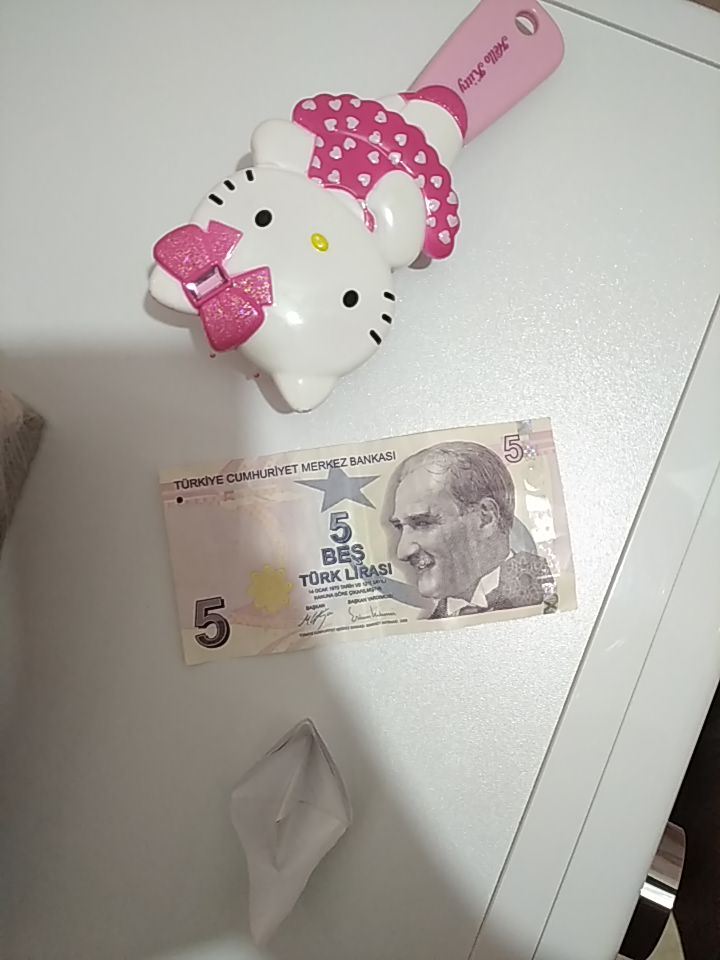5TL: (156, 413, 578, 668)
